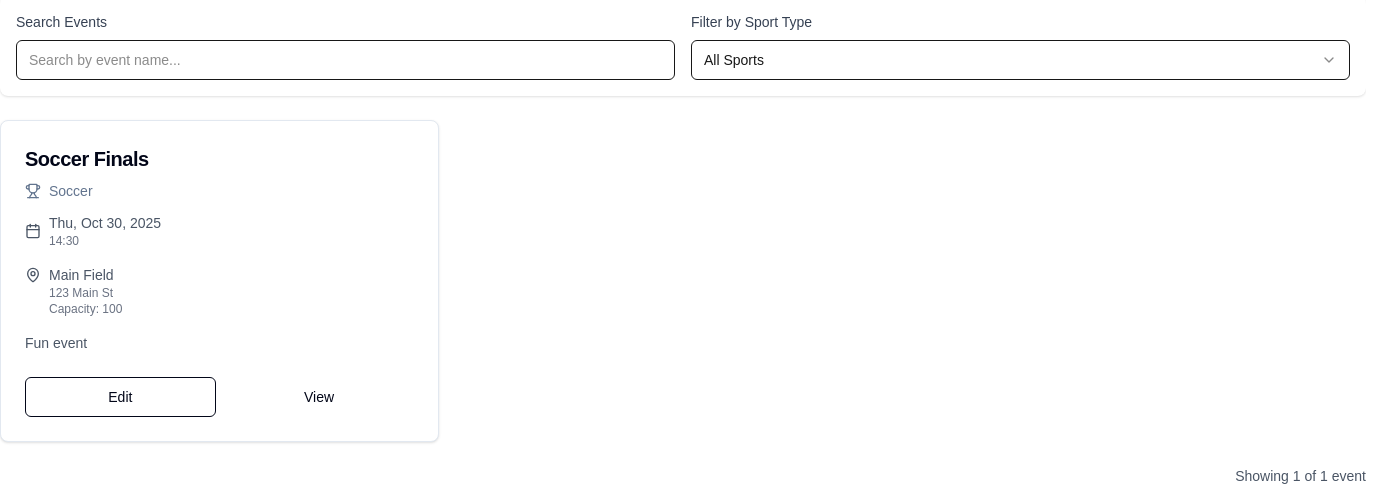
Test case: DashboardClient › shows informative message when search yields no results
In the field with placeholder "Search by event name...": (346, 60) [16,40,675,80], type "basketball"
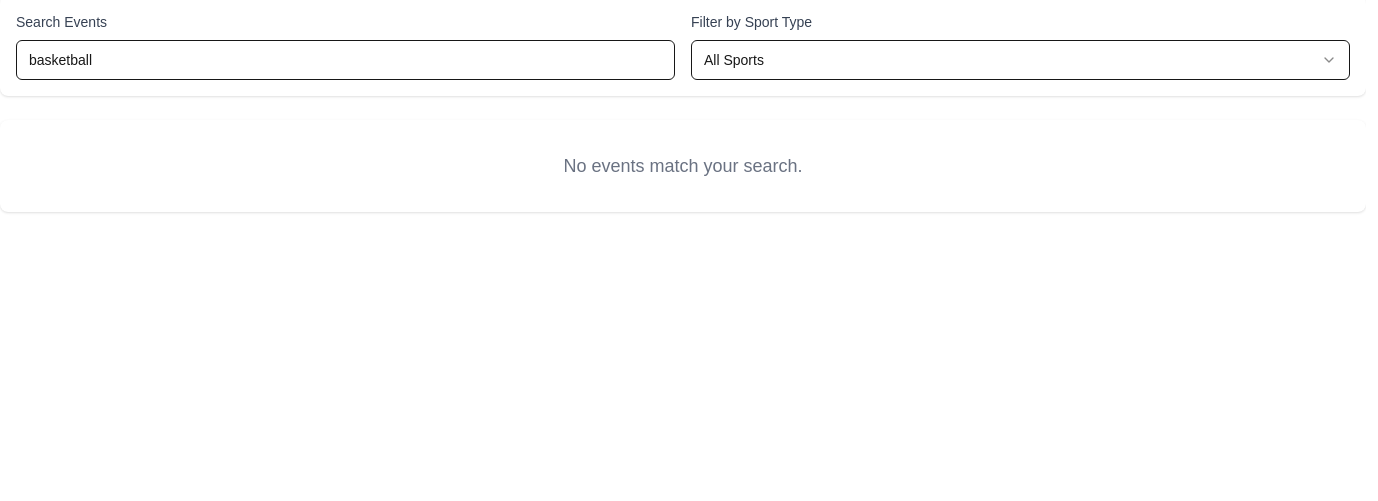
Expected: the text "No events match your search." is shown, [563,156,802,176]
